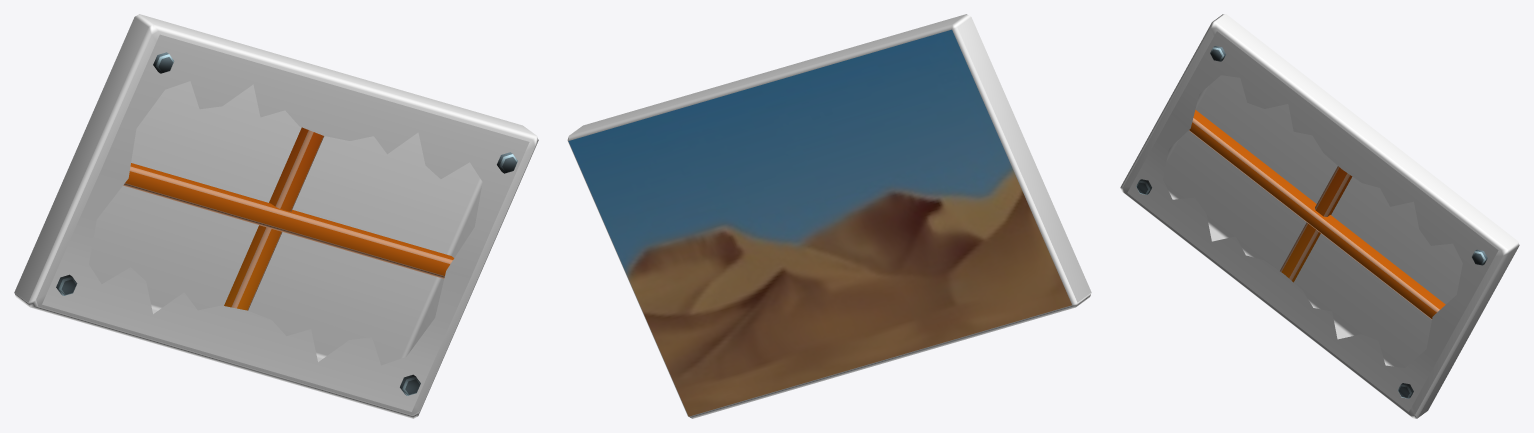
File: framed-painting-4.glb
The picture shows the model from 3 angles, left to right: view 1: azimuth 30°, elevation 25°; view 2: azimuth 150°, elevation 25°; view 3: azimuth 330°, elevation 25°; orthographic projection. The views are drawn at different scales.
Visible parts, largest first — view 1: Object_66; view 2: Object_67, Object_66; view 3: Object_66.
Part boxes in pixels (<box>): Object_66: <box>14,14,538,418</box>; Object_67: <box>568,29,1071,416</box>; Object_66: <box>567,14,1091,418</box>; Object_66: <box>1120,14,1519,418</box>.
Bounding box in the file's own units: 3.07 × 2.63 × 0.2283.
Materials: 2 (2 with a texture image).
